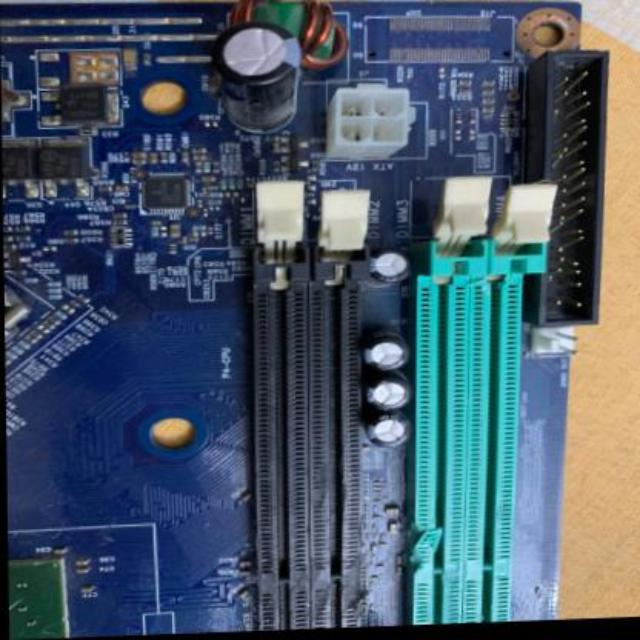PCB: (8, 1, 624, 635)
